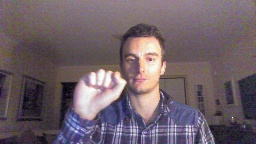Pugno: (69, 67, 127, 119)
